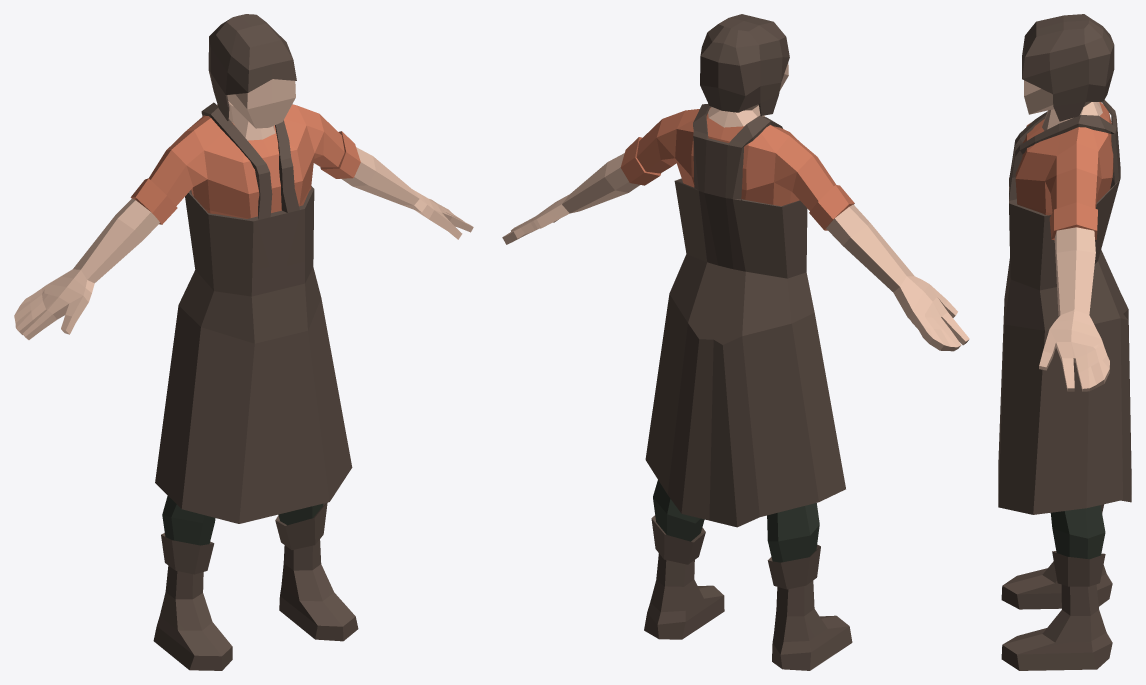
The model's file is Setter_Model.fbx.
The picture shows the model from 3 angles, left to right: view 1: azimuth 30°, elevation 25°; view 2: azimuth 150°, elevation 25°; view 3: azimuth 270°, elevation 25°; orthographic projection.
Parts seen in each view (by area): view 1: Basic Setteler; view 2: Basic Setteler; view 3: Basic Setteler.
Boxes of the visible parts, x1,y1,x2,y2 form: Basic Setteler: (14, 14, 473, 670); Basic Setteler: (502, 14, 969, 670); Basic Setteler: (998, 14, 1131, 670).
Bounding box in the file's own units: 384 × 499 × 98.94.
